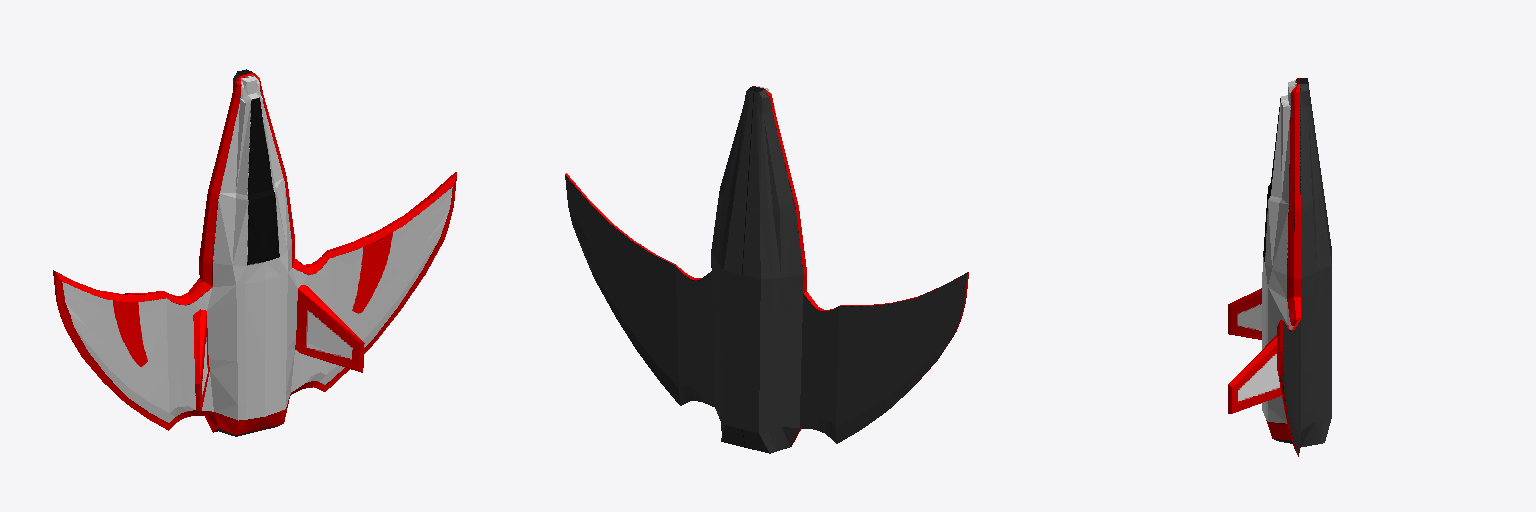
3 renders of one model, left to right at view 1: azimuth 30°, elevation 25°; view 2: azimuth 150°, elevation 25°; view 3: azimuth 270°, elevation 25°, orthographic.
Parts seen in each view (by area): view 1: Ship; view 2: Ship; view 3: Ship.
Part boxes in pixels (x1,y1,x2,y2): Ship: (53,69,456,436); Ship: (565,86,968,453); Ship: (1228,78,1331,456).
Bounding box in the file's own units: 0.9876 × 0.8219 × 0.2193.
Materials: 1 (1 with a texture image).